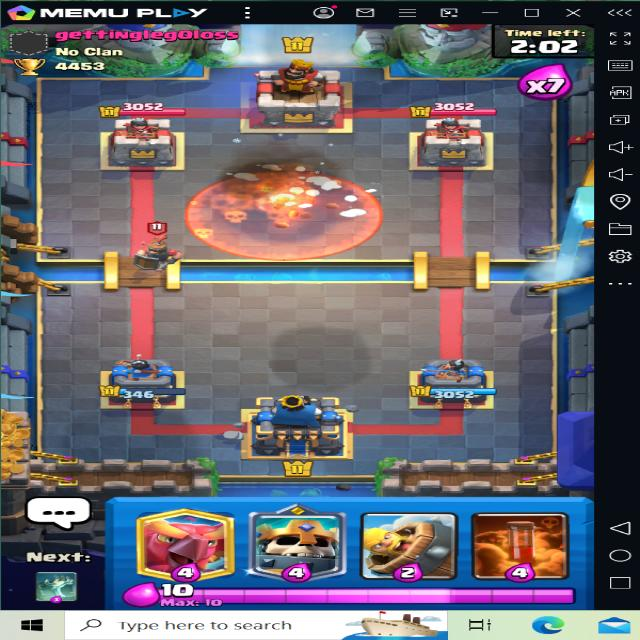Poison: (186, 165, 375, 258)
Royalrecruits: (127, 226, 180, 276)
